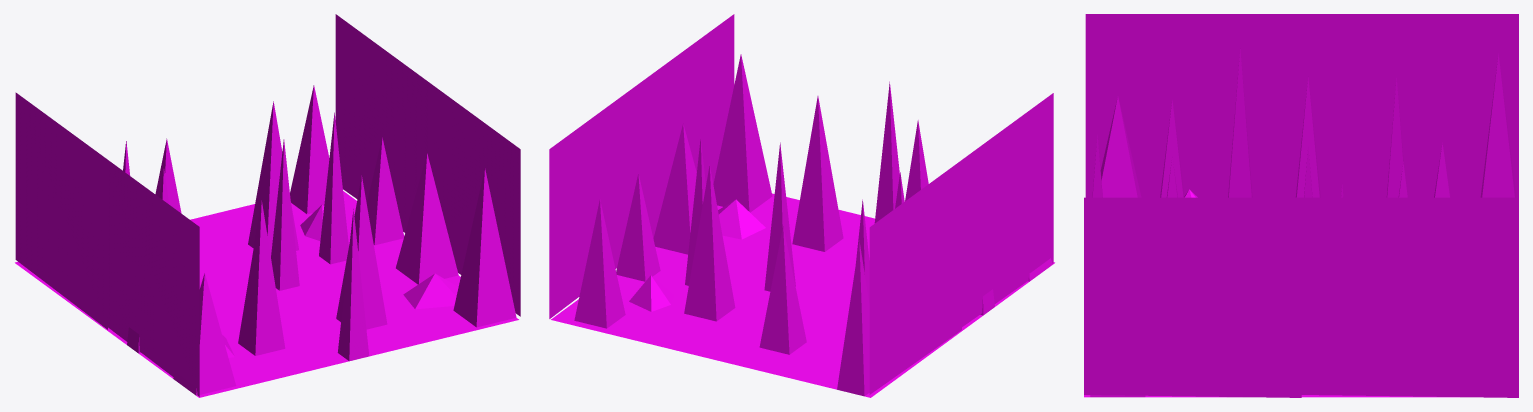
Rendered from cave grilltrapa.obj.
3 views of the same model, side by side, from view 1: azimuth 30°, elevation 25°; view 2: azimuth 150°, elevation 25°; view 3: azimuth 270°, elevation 25° (orthographic). The views are drawn at different scales.
Parts seen in each view (by area): view 1: cave grilltrapa_back; view 2: cave grilltrapa_back; view 3: cave grilltrapa_back.
Part boxes in pixels (x1,y1,x2,y2): cave grilltrapa_back: [15, 14, 520, 397]; cave grilltrapa_back: [549, 14, 1054, 397]; cave grilltrapa_back: [1084, 14, 1518, 397].
Size of the model in its own units: 2.57 by 1.3 by 2.56.
